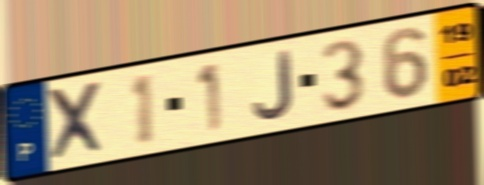1: (193, 59, 224, 136), (129, 69, 154, 149)
3: (319, 36, 368, 113)
6: (378, 24, 430, 104)
J: (250, 47, 297, 123)
X: (43, 78, 110, 165)
